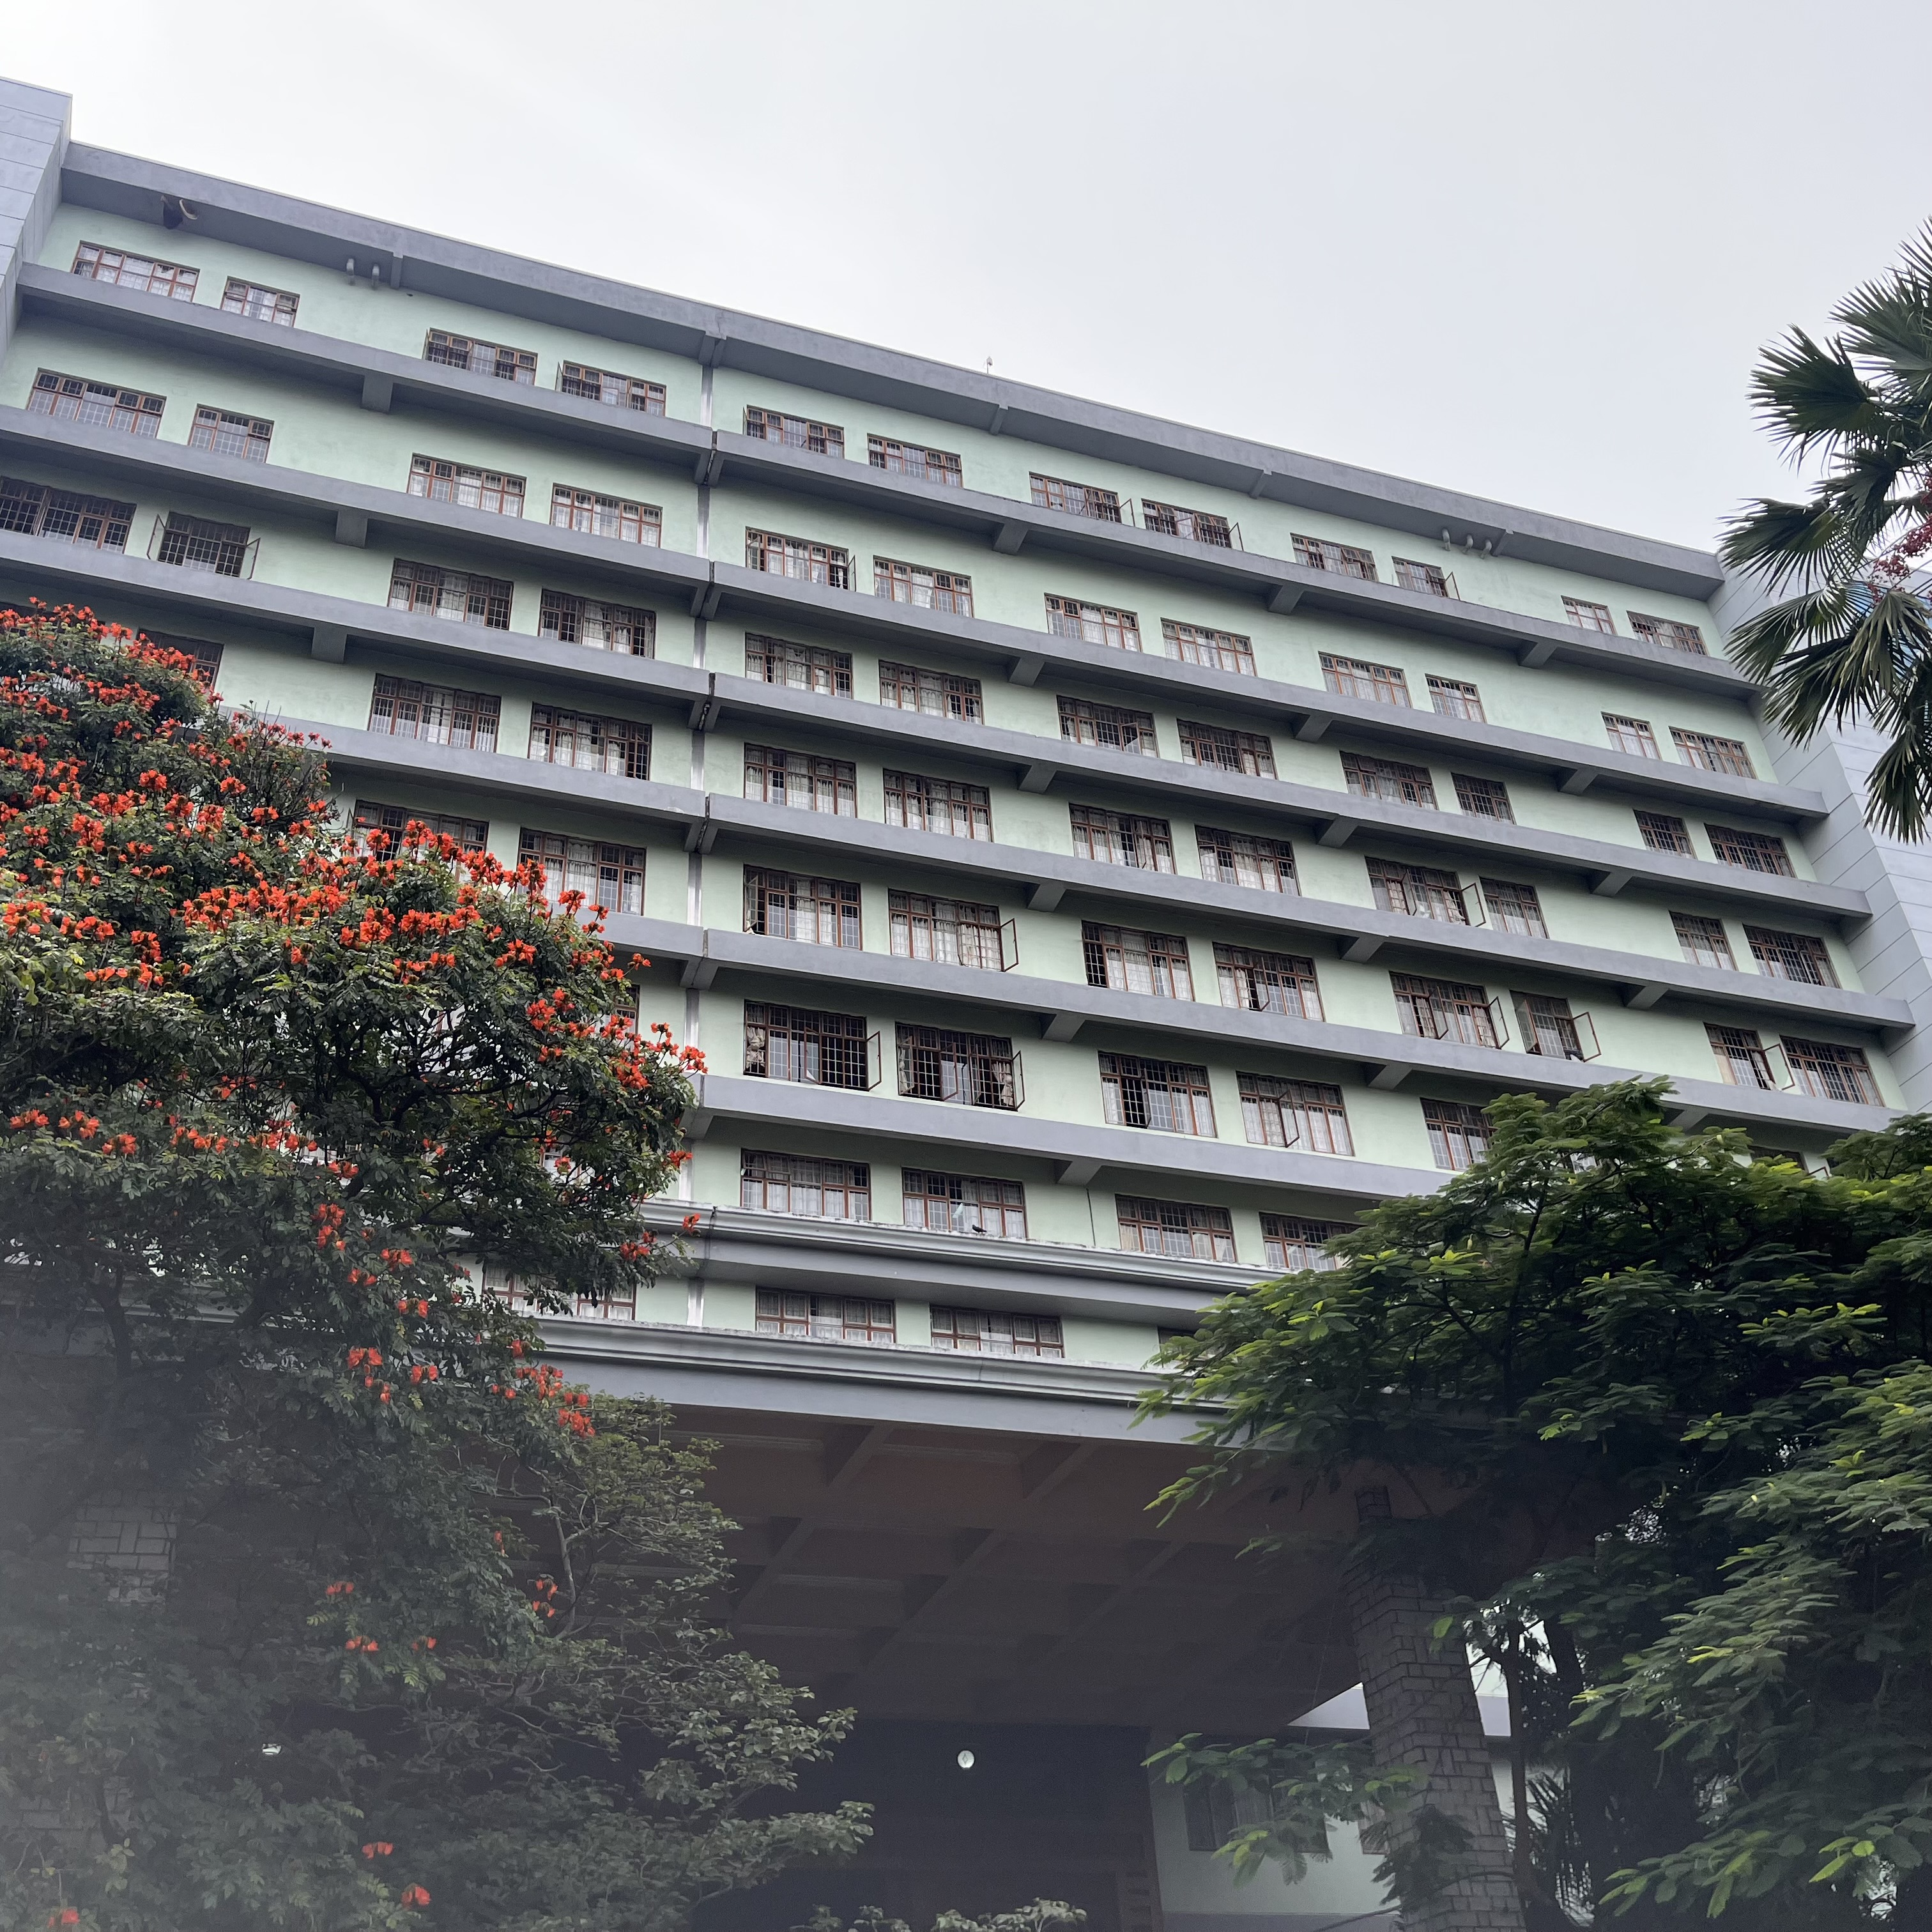Central Block: (372, 193, 1490, 1932)
